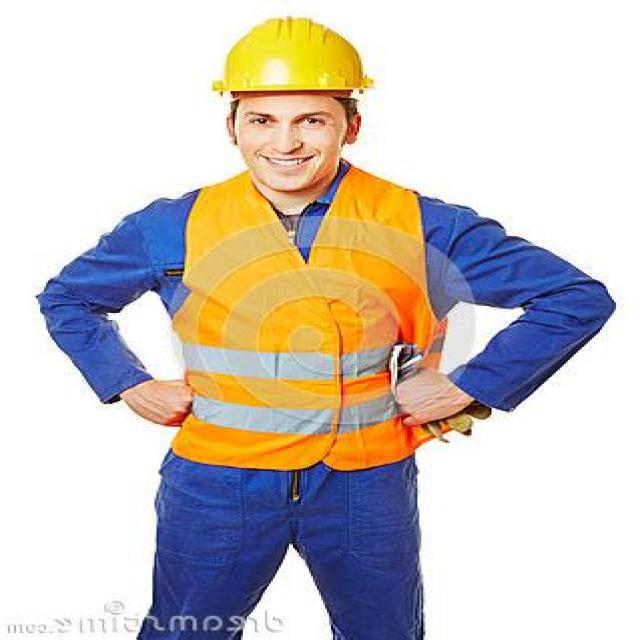Reflective-Jacket: (168, 169, 448, 474)
Safety-Helmet: (209, 13, 379, 101)
